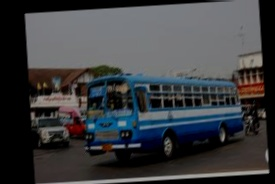bus: (82, 68, 246, 165)
